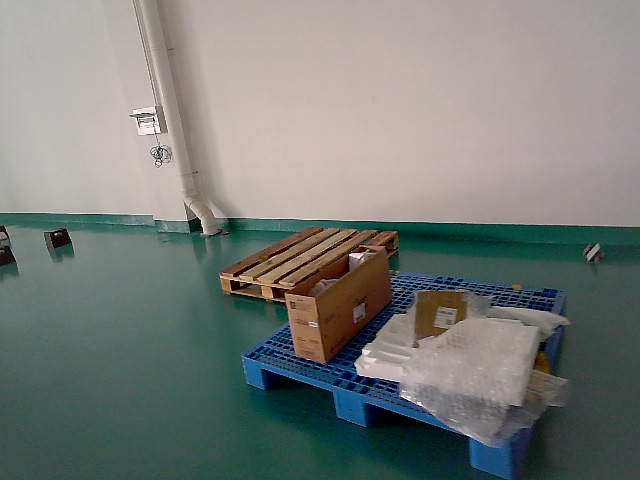block: (470, 436, 516, 479), (329, 385, 368, 429), (241, 355, 267, 394)
front: (244, 357, 513, 479)
hole pallet: (368, 405, 470, 470), (264, 372, 336, 420)
